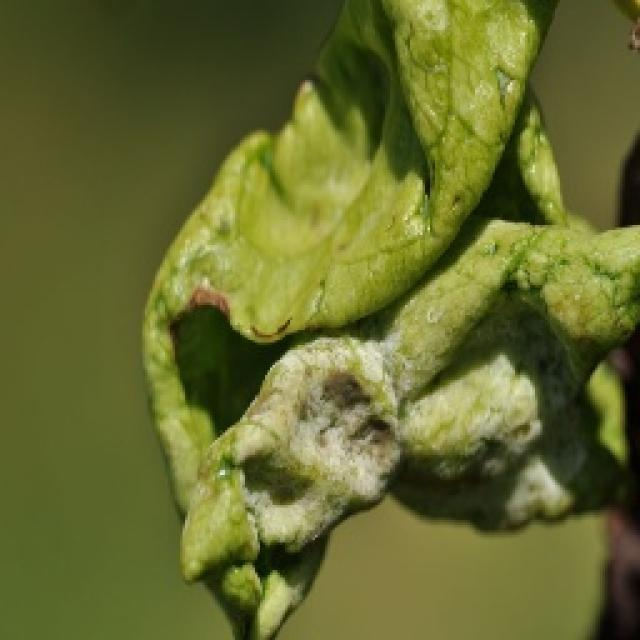peach_leaf_curl: (138, 0, 638, 638)
